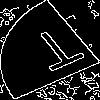T: (25, 25, 94, 81)
